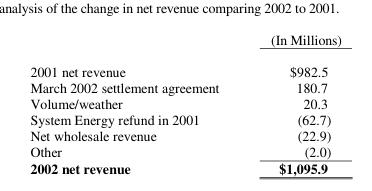table: (29, 28, 341, 159)
table column: (29, 28, 244, 159), (244, 28, 341, 159)
table column header: (29, 28, 341, 54)
table row: (29, 28, 341, 54), (29, 54, 341, 78), (29, 142, 341, 159), (29, 78, 341, 94), (29, 94, 341, 110), (29, 110, 341, 126), (29, 126, 341, 142)
